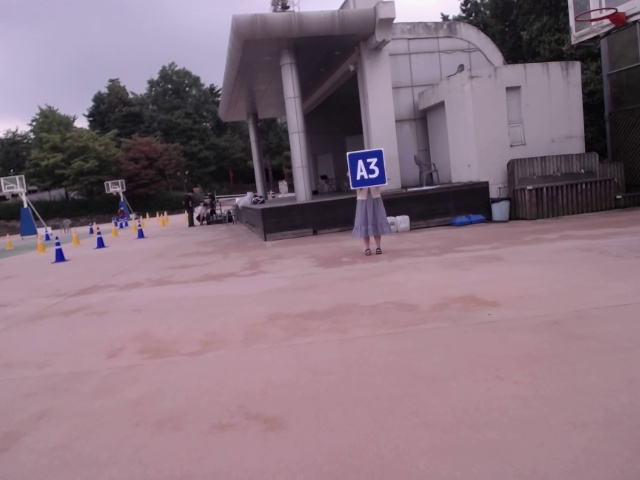delivery_a3: (347, 149, 388, 189)
